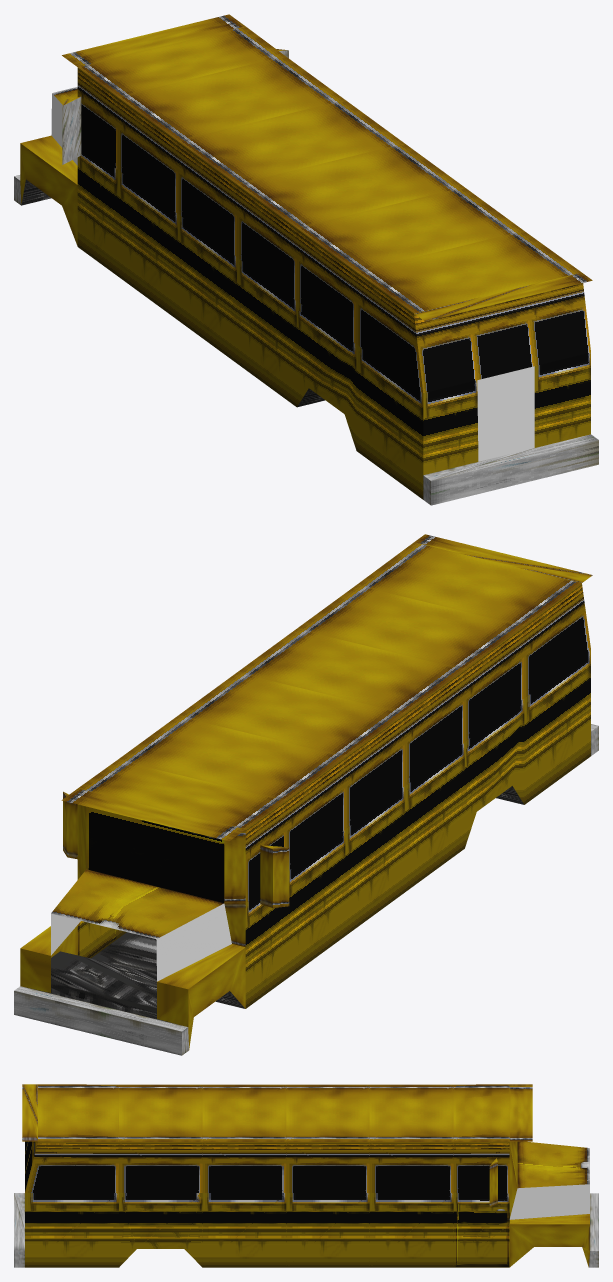
3 renders of one model, top to bottom at view 1: azimuth 30°, elevation 25°; view 2: azimuth 150°, elevation 25°; view 3: azimuth 270°, elevation 25°, orthographic. The views are drawn at different scales.
Parts seen in each view (by area): view 1: prim069-Box01; view 2: prim069-Box01; view 3: prim069-Box01.
Boxes of the visible parts, box(x1,y1,x2,y2) form: prim069-Box01: box(14, 14, 598, 505); prim069-Box01: box(14, 534, 598, 1055); prim069-Box01: box(14, 1084, 598, 1267).
Bounding box in the file's own units: 414 × 314 × 1321.
Materials: 11 (9 with a texture image).
